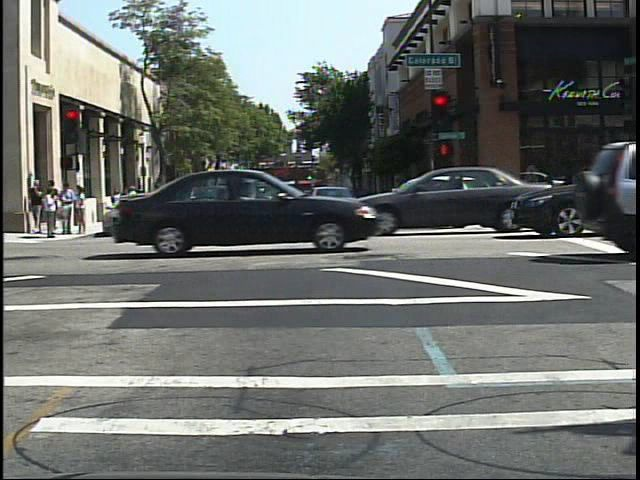person: (123, 181, 141, 222), (135, 181, 151, 218)
